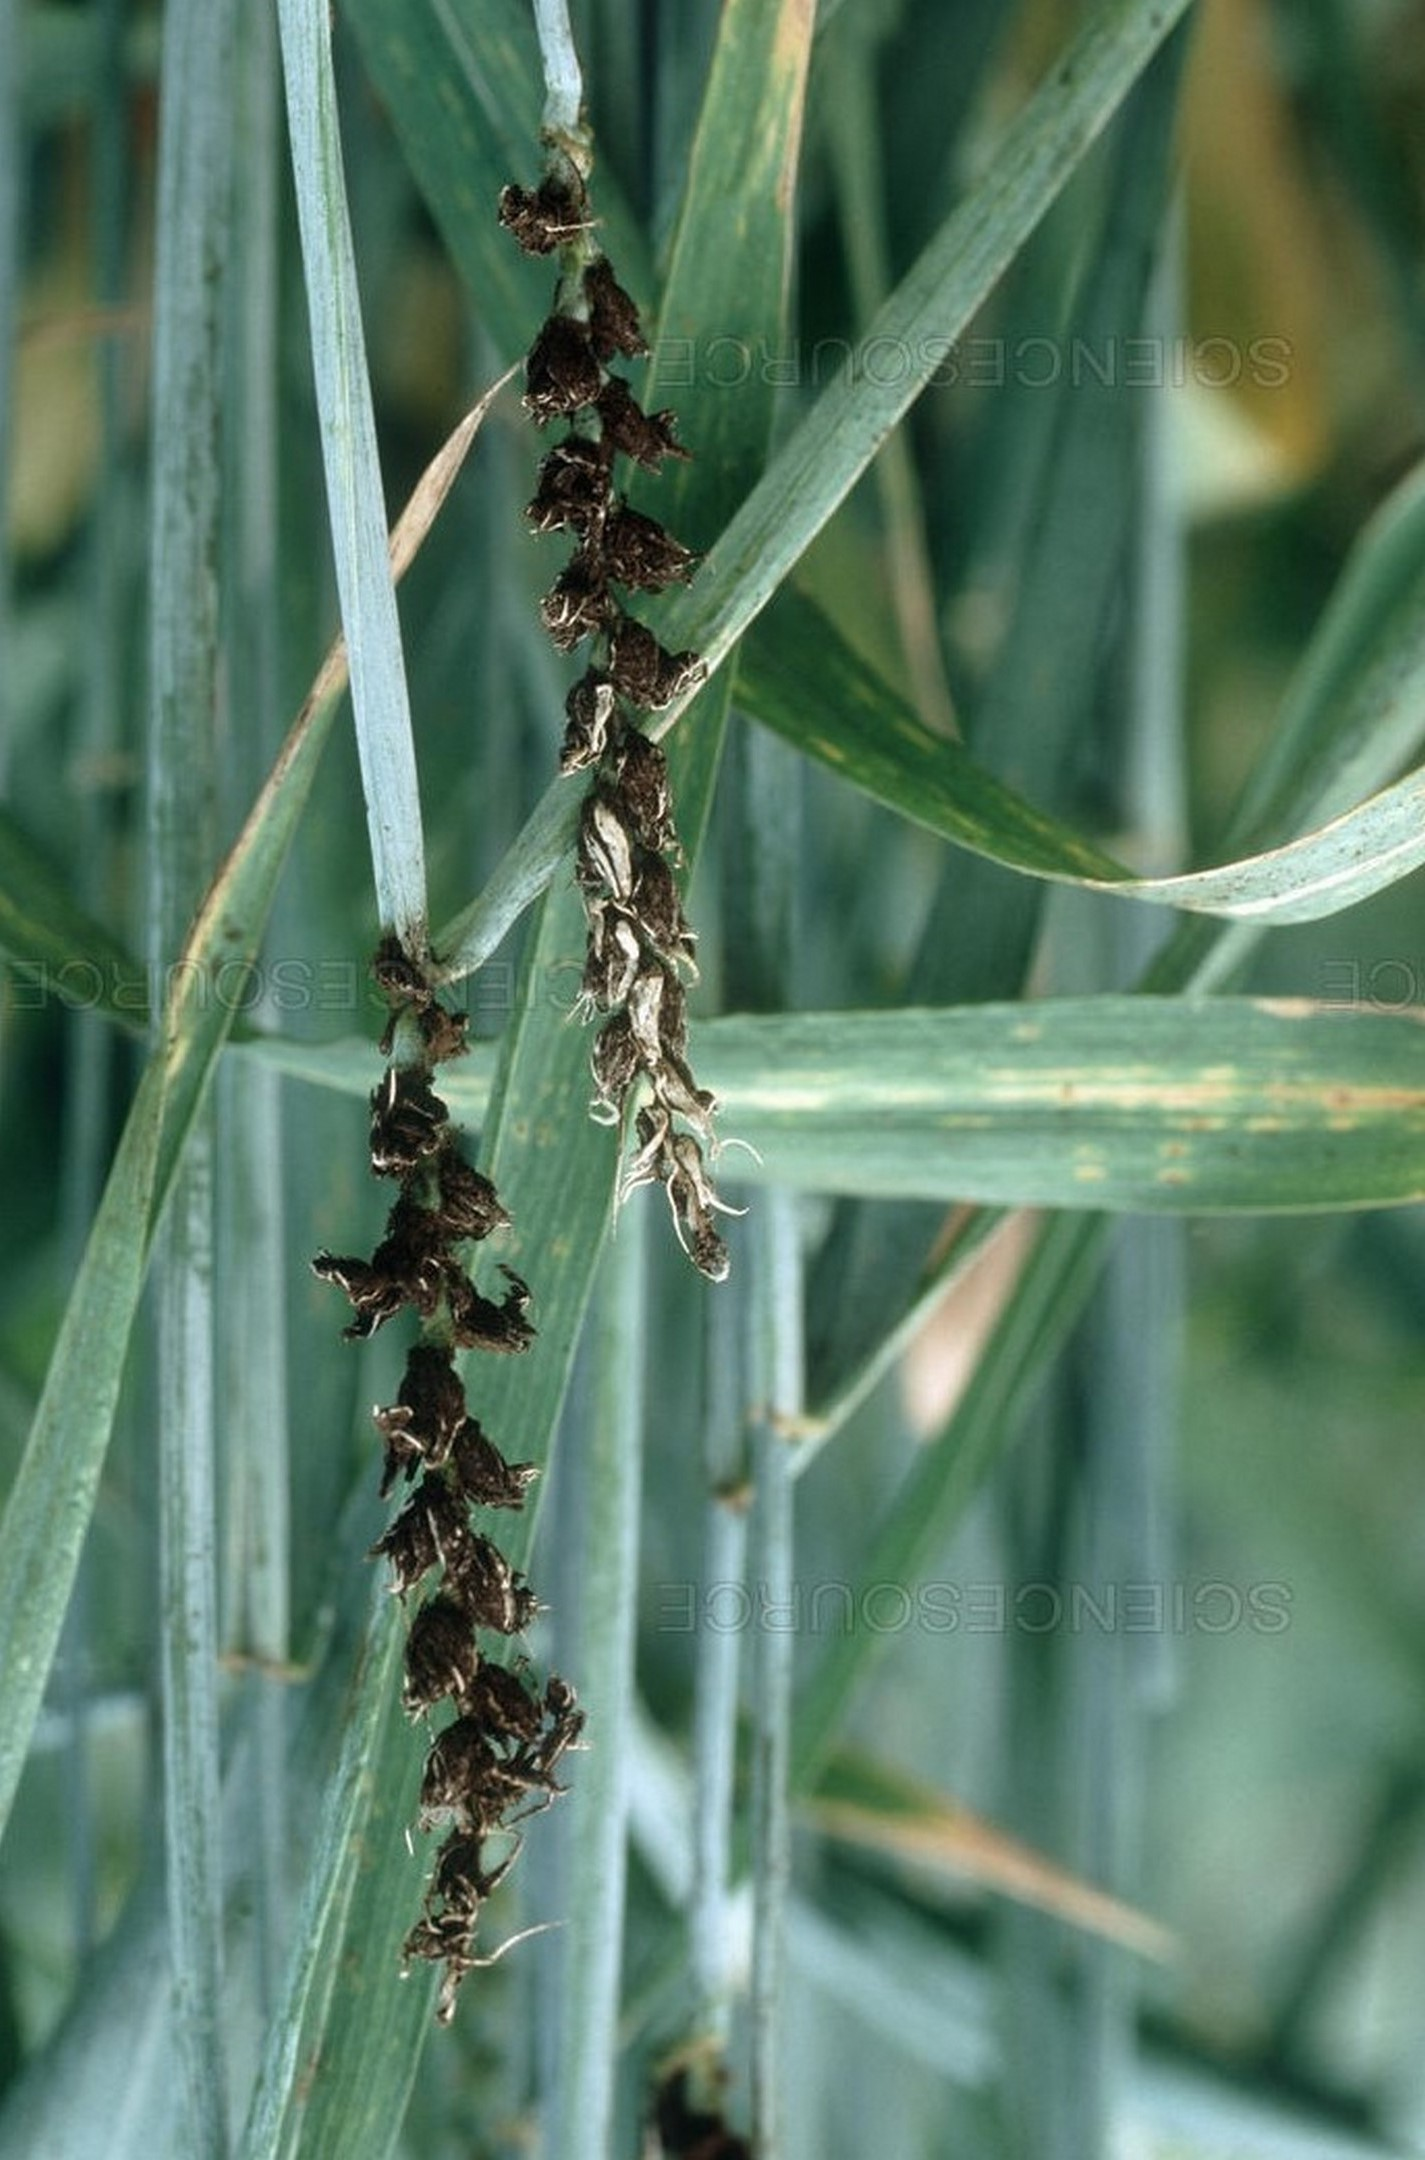Wheat Loose Smut: (490, 150, 797, 1222), (274, 919, 571, 1960)
